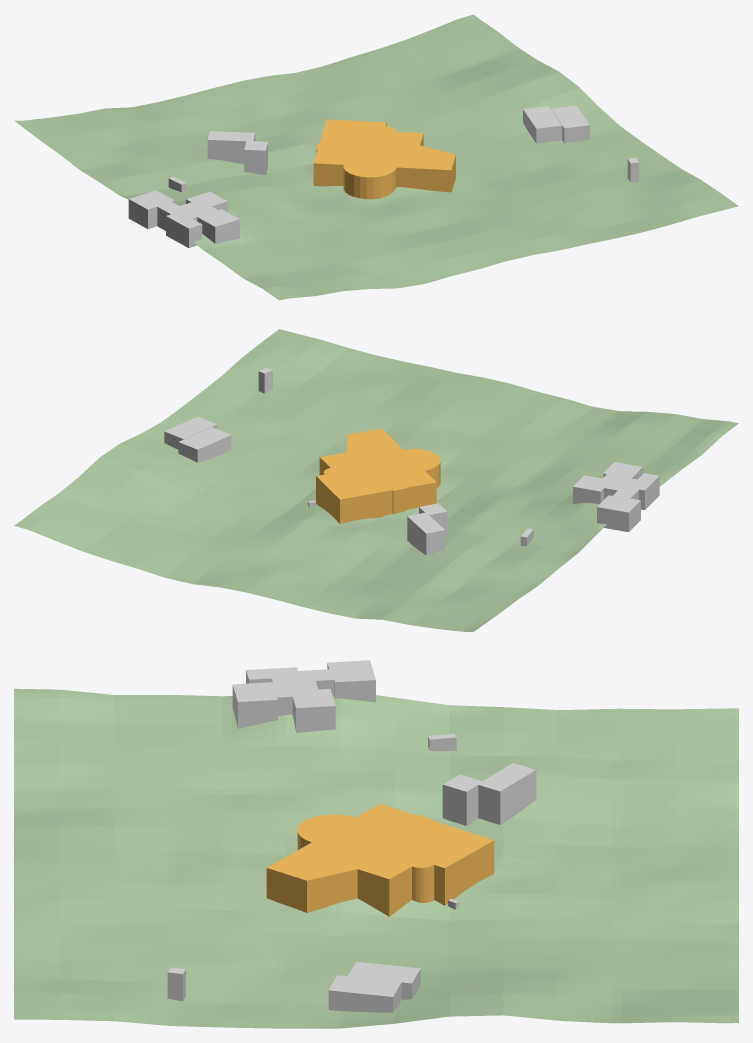
File: kkm_ref.glb
The picture shows the model from 3 angles, top to bottom: view 1: azimuth 30°, elevation 25°; view 2: azimuth 150°, elevation 25°; view 3: azimuth 270°, elevation 25°; orthographic projection. The views are drawn at different scales.
Visible parts, largest first — view 1: ARAZI, KOMSU_BINALAR, HEDEF_0_way_423686191; view 2: ARAZI, HEDEF_0_way_423686191, KOMSU_BINALAR; view 3: ARAZI, HEDEF_0_way_423686191, KOMSU_BINALAR.
Boxes of the visible parts, x1,y1,x2,y2 form: ARAZI: (14,14,738,300); KOMSU_BINALAR: (128,105,638,247); HEDEF_0_way_423686191: (313,119,455,199); ARAZI: (14,329,738,631); HEDEF_0_way_423686191: (316,428,440,523); KOMSU_BINALAR: (164,367,659,555); ARAZI: (14,688,738,1028); HEDEF_0_way_423686191: (266,803,494,916); KOMSU_BINALAR: (167,660,536,1012).
Bounding box in the file's own units: 418 × 38.61 × 400.
